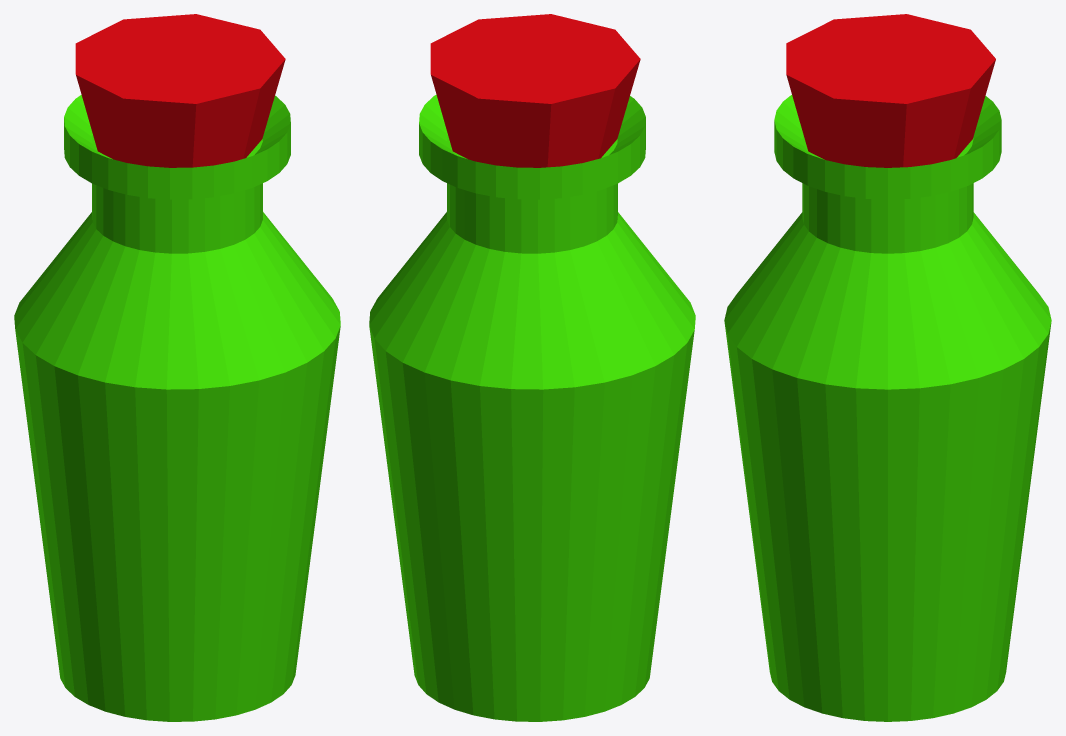
File: Low-Bottle-4.fbx
3 renders of one model, left to right at view 1: azimuth 30°, elevation 25°; view 2: azimuth 150°, elevation 25°; view 3: azimuth 270°, elevation 25°, orthographic.
Parts seen in each view (by area): view 1: Low-Bottle_4, Low-Kork-4; view 2: Low-Bottle_4, Low-Kork-4; view 3: Low-Bottle_4, Low-Kork-4.
Part boxes in pixels (box(x1,y1,x2,y2)): Low-Bottle_4: box(14, 95, 340, 721); Low-Kork-4: box(75, 14, 285, 167); Low-Bottle_4: box(369, 94, 695, 721); Low-Kork-4: box(430, 14, 640, 167); Low-Bottle_4: box(724, 95, 1051, 721); Low-Kork-4: box(786, 14, 995, 167).
Bounding box in the file's own units: 194 × 401 × 194.
